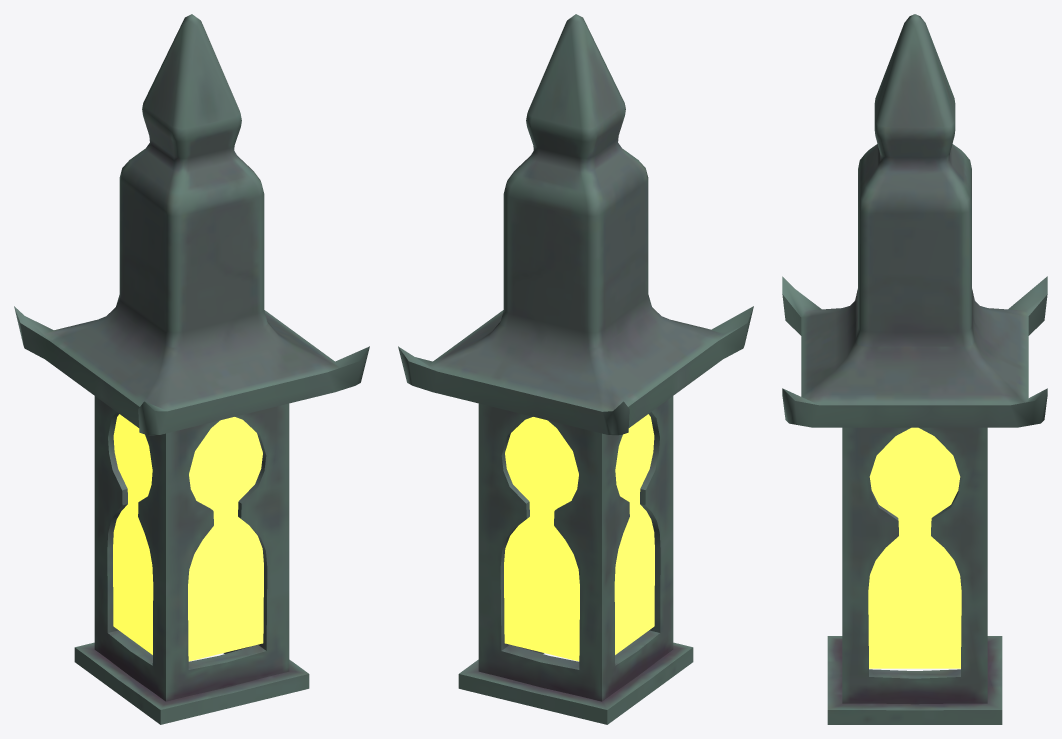
File: Lantern.fbx
3 views of the same model, side by side, from view 1: azimuth 30°, elevation 25°; view 2: azimuth 150°, elevation 25°; view 3: azimuth 270°, elevation 25° (orthographic).
Visible parts, largest first — view 1: tallLampPart17__2_, tallLampPart4__2_, tallLampPart16__2_; view 2: tallLampPart17__2_, tallLampPart4__2_, tallLampPart16__2_; view 3: tallLampPart17__2_, tallLampPart4__2_, tallLampPart16__2_.
Part boxes in pixels (box(x1,y1,x2,y2)): tallLampPart17__2_: box(14, 14, 369, 435); tallLampPart4__2_: box(74, 396, 309, 724); tallLampPart16__2_: box(113, 414, 263, 661); tallLampPart17__2_: box(398, 14, 753, 435); tallLampPart4__2_: box(458, 396, 693, 724); tallLampPart16__2_: box(504, 414, 654, 661); tallLampPart17__2_: box(782, 14, 1047, 427); tallLampPart4__2_: box(827, 427, 1002, 724); tallLampPart16__2_: box(868, 427, 961, 668).
Size of the model in its own units: 117 by 328 by 117.
